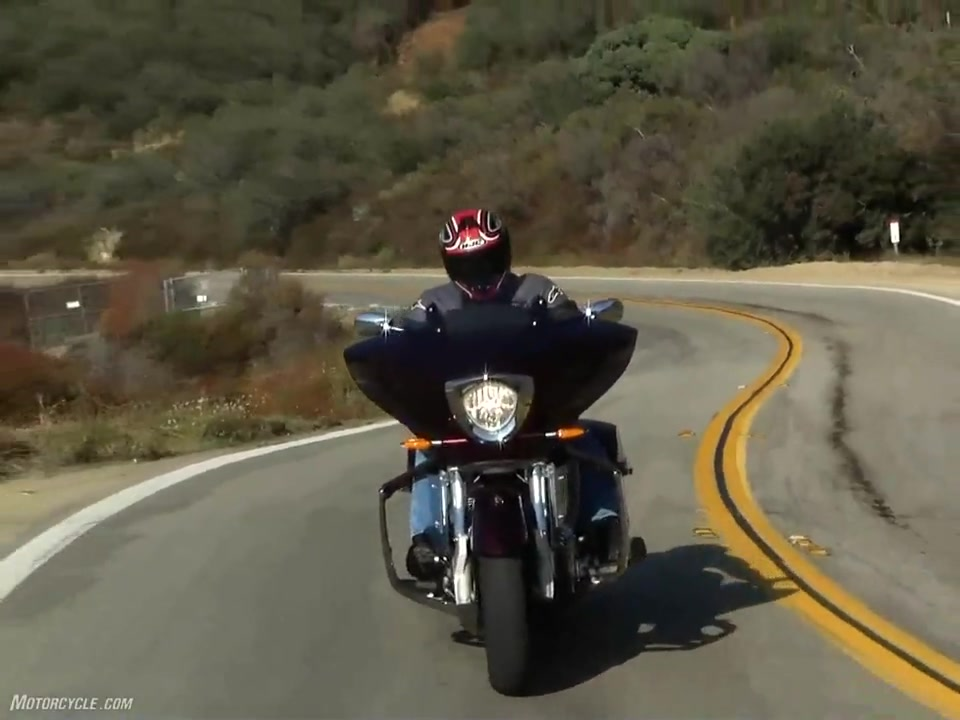motorbike: (343, 299, 644, 704)
